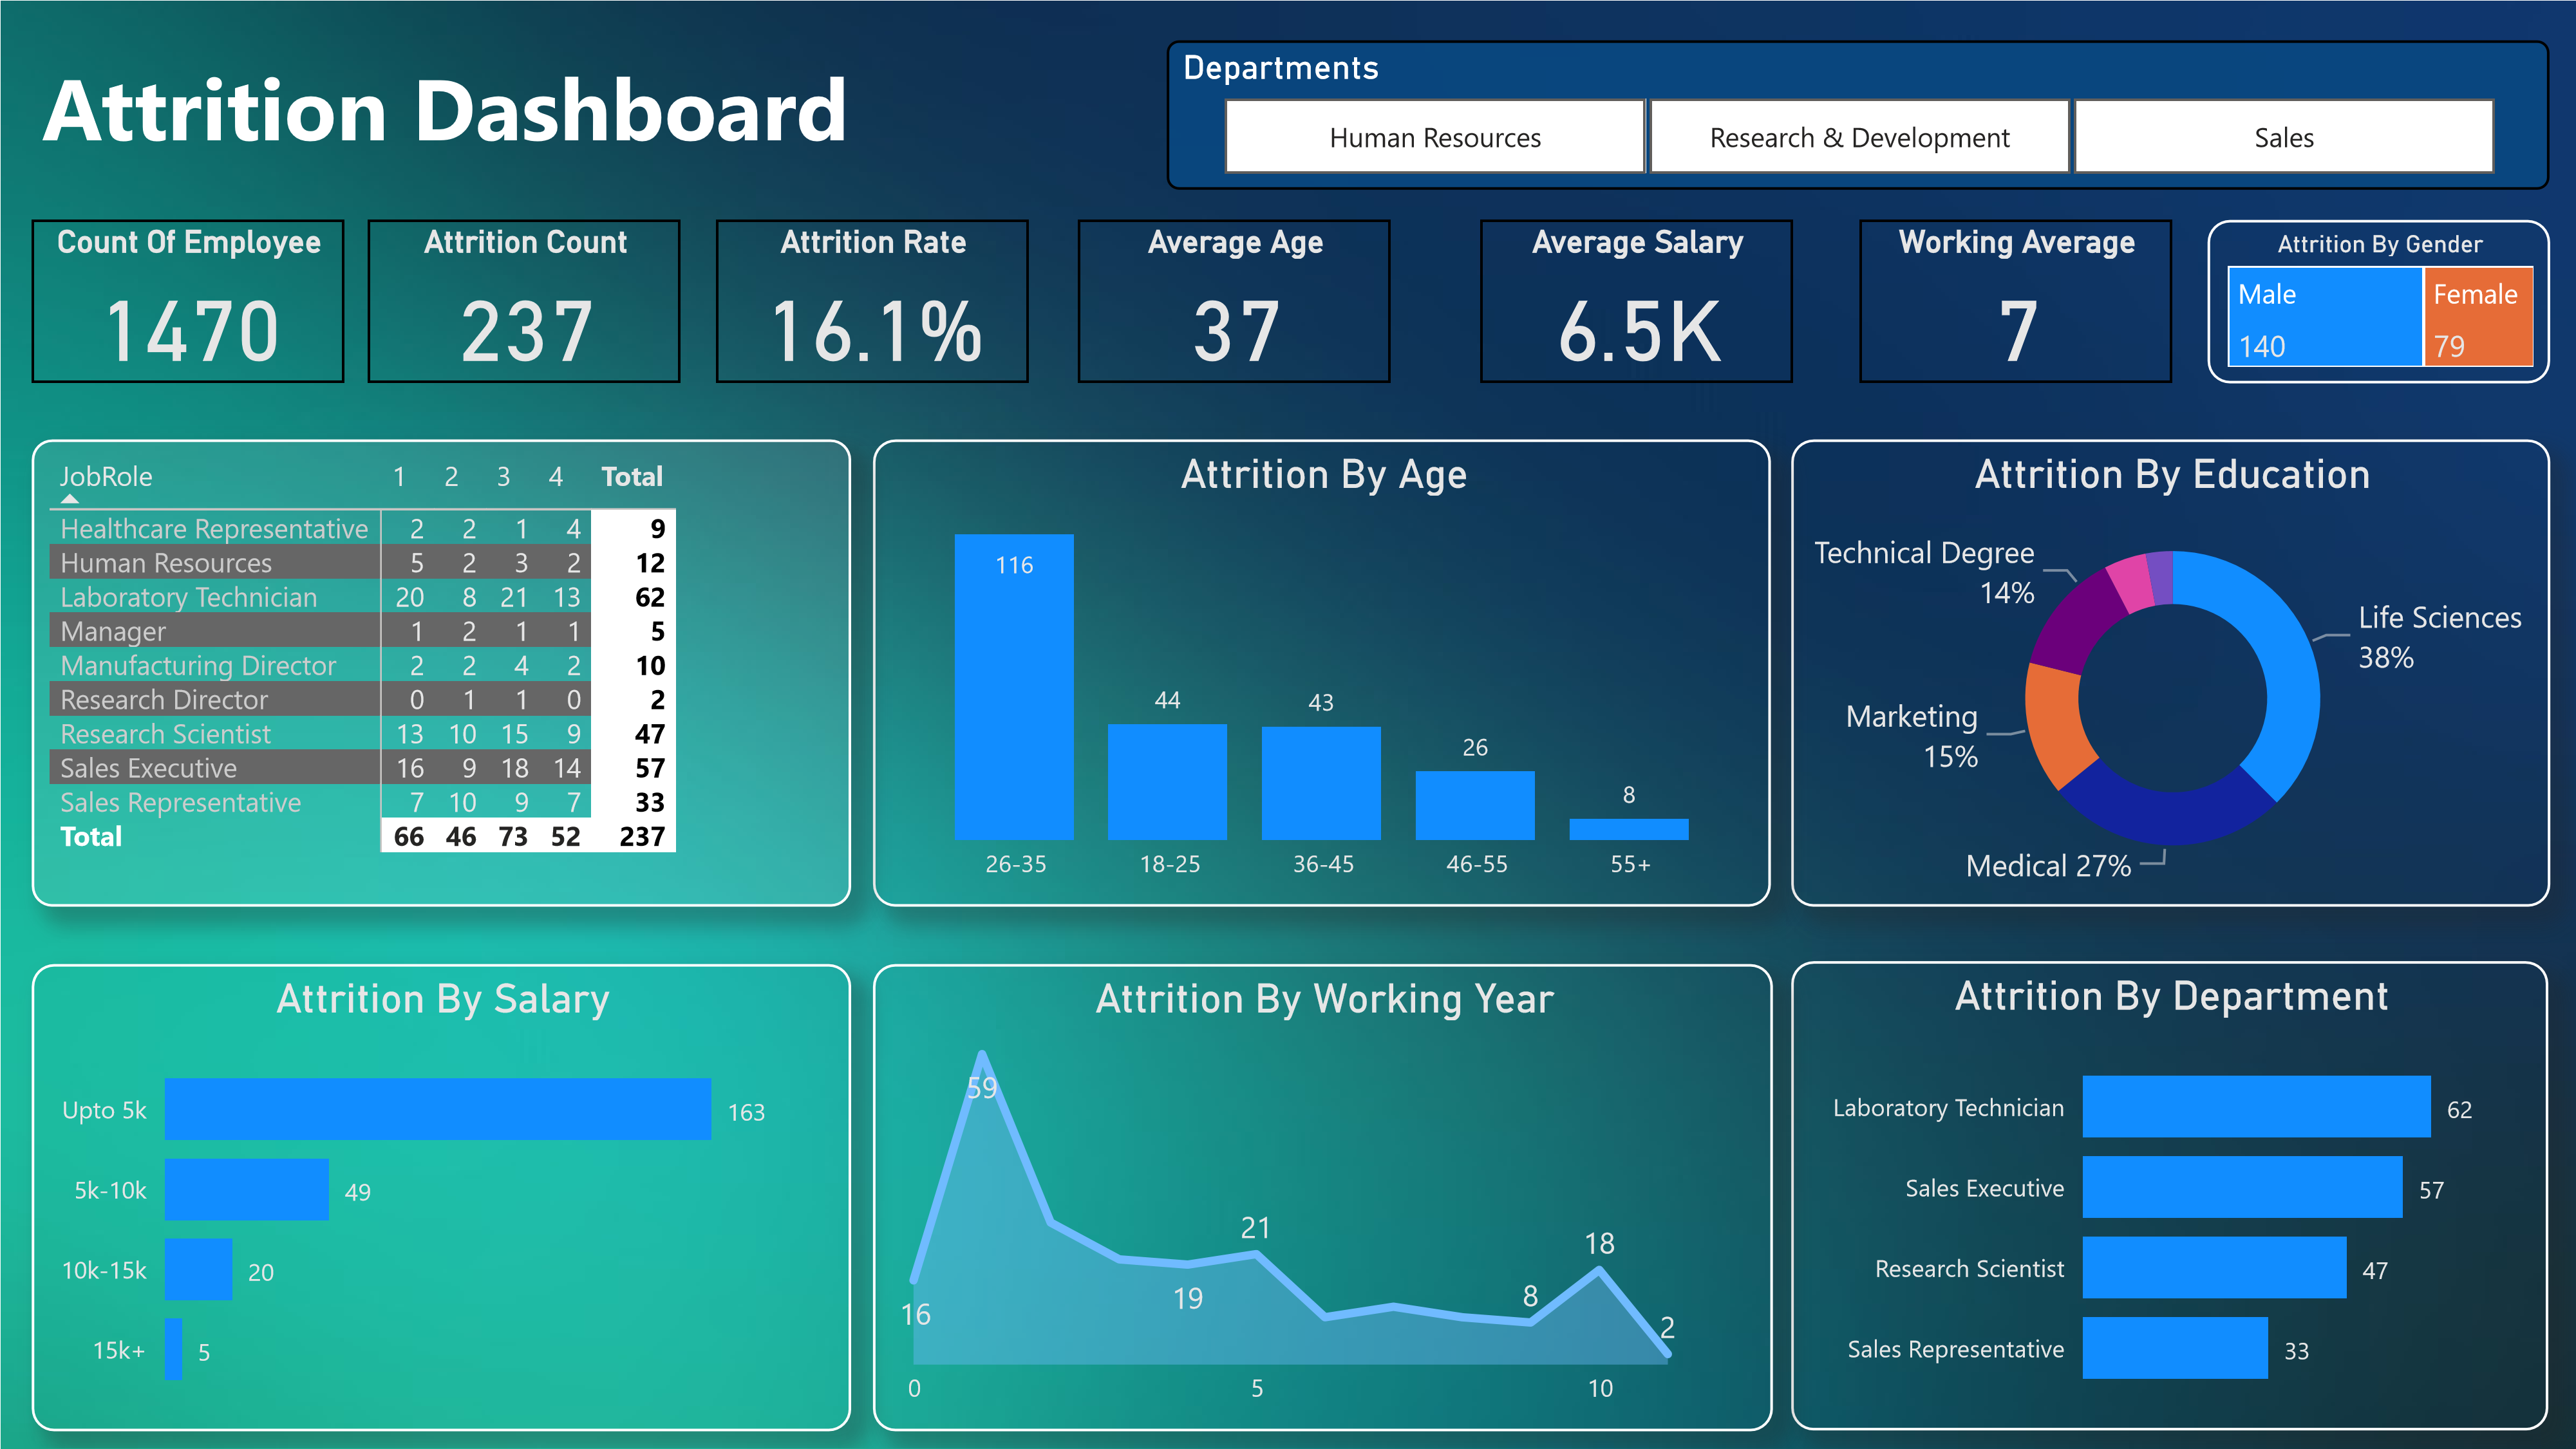

Layout of this report page (visuals, bound fields, positions):
{"tool":"powerbi","page":{"name":"Page 1","canvas":[1280,720],"ordinal":0},"visuals":[{"type":"card","title":"Count Of Employee","fields":{"Values":["Count(HR_Analytics.EmpID)"]},"box":[15.4,109.1,154.5,80.6],"z":0},{"type":"card","title":"Average Age","fields":{"Values":["Avg(HR_Analytics.Age)"]},"box":[535.9,109.2,154.5,80.6],"z":1000},{"type":"card","title":"Attrition Count","fields":{"Values":["Sum(HR_Analytics.AtiritionCount)"]},"box":[183.1,109.2,154.5,80.6],"z":2000},{"type":"card","title":"Attrition Rate","fields":{"Values":["HR_Analytics.Atiration_Rate"]},"box":[356.1,109.2,154.5,80.6],"z":3000},{"type":"card","title":"Average Salary","fields":{"Values":["Avg(HR_Analytics.MonthlyIncome)"]},"box":[735.7,109.2,154.5,80.6],"z":4000},{"type":"card","title":"Working Average","fields":{"Values":["Avg(HR_Analytics.YearsAtCompany)"]},"box":[923.9,109.2,154.5,80.6],"z":5000},{"type":"donutChart","title":"Attrition By Education","fields":{"Category":["HR_Analytics.EducationField"],"Y":["Sum(HR_Analytics.AtiritionCount)"]},"box":[890.1,218.3,377,232.4],"z":6000},{"type":"columnChart","title":"Attrition By Age","fields":{"Category":["HR_Analytics.AgeGroup"],"Y":["Sum(HR_Analytics.AtiritionCount)"]},"box":[433.7,218.3,446.5,232.4],"z":7000},{"type":"pivotTable","fields":{"Rows":["HR_Analytics.JobRole"],"Columns":["HR_Analytics.JobSatisfaction"],"Values":["Sum(HR_Analytics.AtiritionCount)"]},"box":[15.6,218.3,406.8,232.4],"z":8000},{"type":"barChart","title":"Attrition By Salary","fields":{"Category":["HR_Analytics.SalarySlab"],"Y":["Sum(HR_Analytics.AtiritionCount)"]},"box":[16,479,406.8,232.4],"z":9000},{"type":"barChart","title":"Attrition By Department","fields":{"Y":["Sum(HR_Analytics.AtiritionCount)"],"Category":["HR_Analytics.JobRole"]},"box":[890.3,477.1,376.3,233.5],"z":10000},{"type":"areaChart","title":"Attrition By Working Year","fields":{"Category":["HR_Analytics.YearsAtCompany"],"Y":["Sum(HR_Analytics.AtiritionCount)"]},"box":[433.4,478.7,446.8,231.8],"z":11000},{"type":"treemap","title":"Attrition By Age","fields":{"Group":["HR_Analytics.Gender"],"Values":["Sum(HR_Analytics.AtiritionCount)"]},"box":[1096.9,109.2,169.7,80.6],"z":12000},{"type":"slicer","title":"Departments","fields":{"Values":["HR_Analytics.Department"]},"box":[579.5,20.2,687,73.9],"z":13000},{"type":"textbox","box":[15.1,18.5,564.4,77.3],"z":14000}]}

Visuals, with their boxes in screenshot pixels (x1, y1, x2, y2), scaled from the page's 1280x720 canvas onto the 2576x1449 screenshot:
"Count Of Employee" card: box=[31, 220, 342, 382]
"Average Age" card: box=[1078, 220, 1389, 382]
"Attrition Count" card: box=[368, 220, 679, 382]
"Attrition Rate" card: box=[717, 220, 1028, 382]
"Average Salary" card: box=[1481, 220, 1792, 382]
"Working Average" card: box=[1859, 220, 2170, 382]
"Attrition By Education" donutChart: box=[1791, 439, 2550, 907]
"Attrition By Age" columnChart: box=[873, 439, 1771, 907]
pivotTable - HR_Analytics.JobRole x HR_Analytics.JobSatisfaction: box=[32, 439, 850, 907]
"Attrition By Salary" barChart: box=[32, 964, 851, 1432]
"Attrition By Department" barChart: box=[1792, 960, 2549, 1430]
"Attrition By Working Year" areaChart: box=[872, 964, 1771, 1430]
"Attrition By Age" treemap: box=[2208, 220, 2549, 382]
"Departments" slicer: box=[1166, 41, 2549, 189]
textbox: box=[30, 37, 1166, 193]
